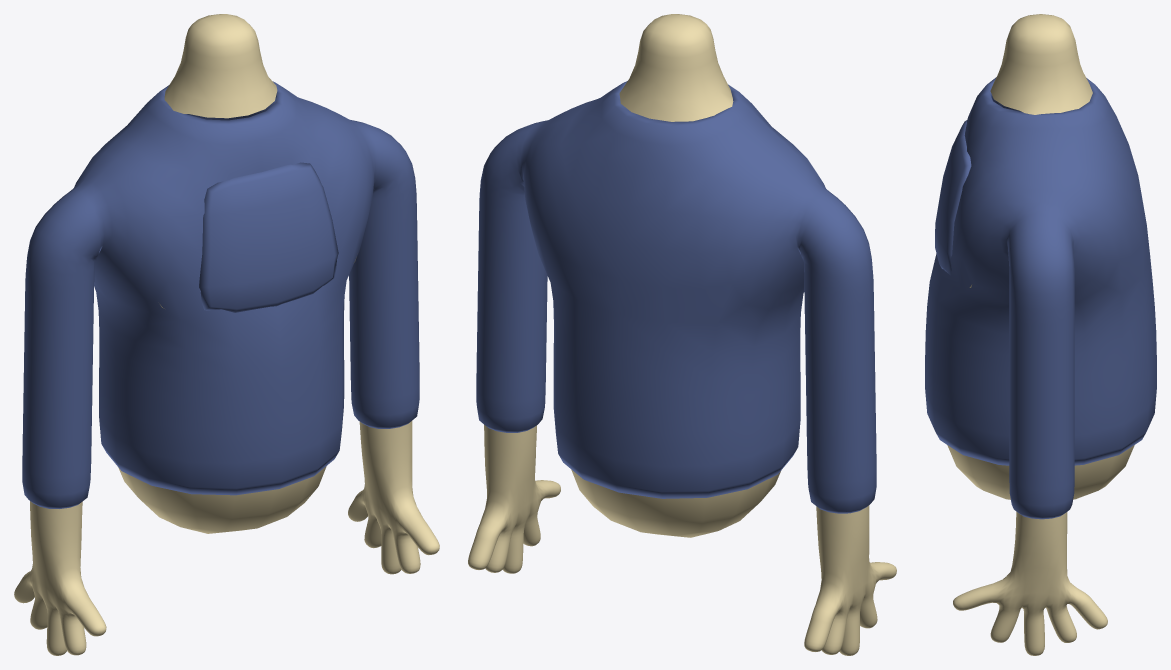
The model's file is cpr-doll-chest-animation.fbx.
The picture shows the model from 3 angles, left to right: view 1: azimuth 30°, elevation 25°; view 2: azimuth 150°, elevation 25°; view 3: azimuth 270°, elevation 25°; orthographic projection. The views are drawn at different scales.
Parts seen in each view (by area): view 1: Jumper, Torso, Chest Piece; view 2: Jumper, Torso; view 3: Jumper, Torso, Chest Piece.
Part boxes in pixels (x1=…): Jumper: x1=22, y1=81, x2=419, y2=508; Torso: x1=14, y1=14, x2=439, y2=655; Chest Piece: x1=199, y1=162, x2=338, y2=312; Jumper: x1=476, y1=81, x2=876, y2=513; Torso: x1=468, y1=14, x2=896, y2=655; Jumper: x1=925, y1=77, x2=1156, y2=519; Torso: x1=947, y1=14, x2=1134, y2=655; Chest Piece: x1=935, y1=120, x2=971, y2=275.
Size of the model in its own units: 79.1 by 115 by 43.34.
